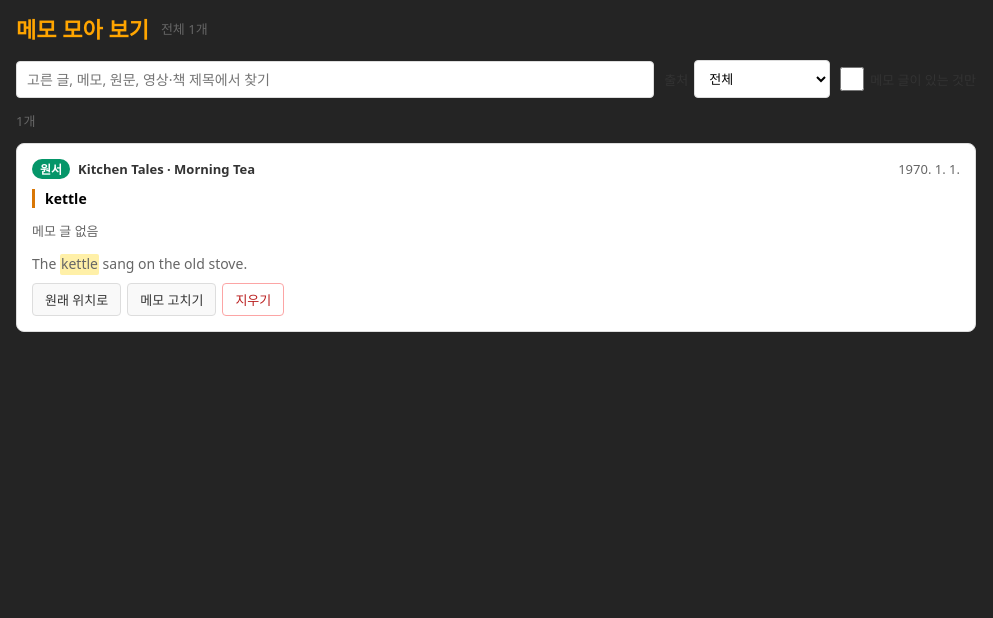
Test: MemoCollection › 고치는 메모 글은 글자마다가 아니라 입력이 멈춘 뒤 한 번 저장한다
The width and height of the screenshot is (993, 618).
Click the button "메모 고치기" at [172, 300], box [127, 283, 216, 316]
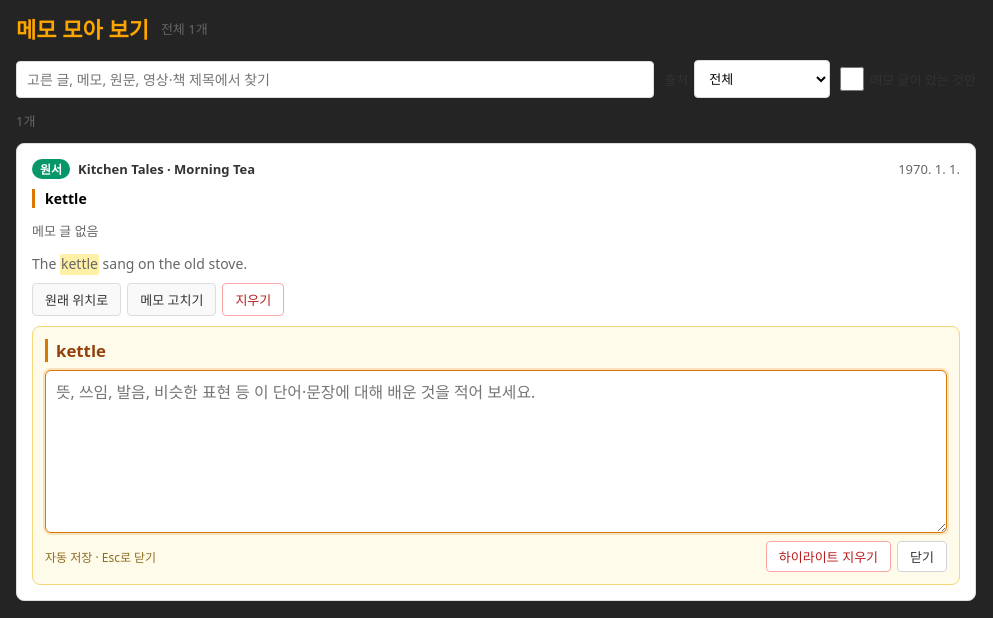
Type "b" into the text box named "메모" at [496, 452], box [45, 370, 947, 533]
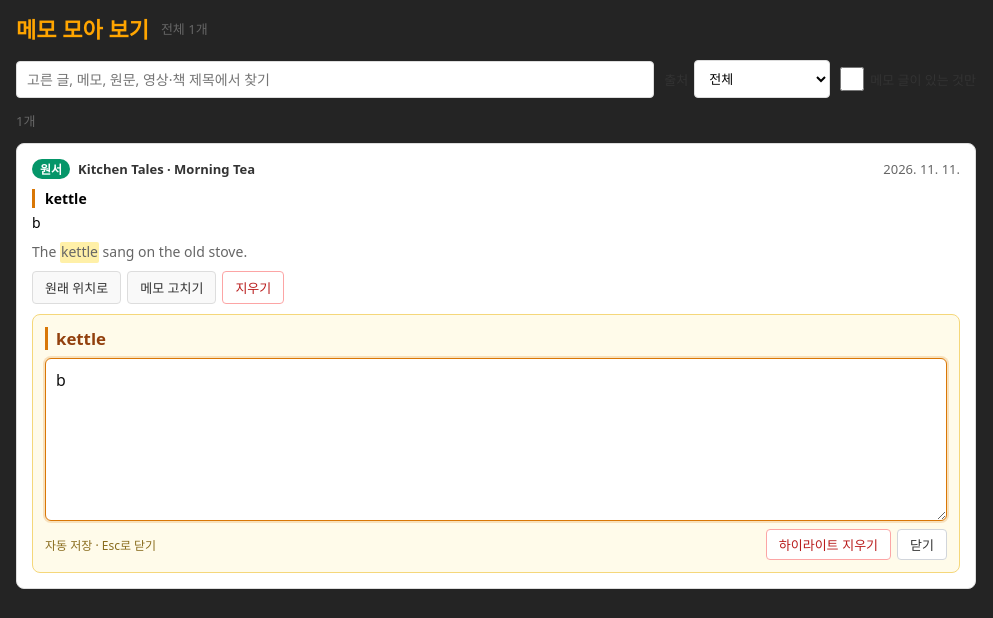
Replace the text in the text box named "메모" with "bo" at [496, 440], box [45, 358, 947, 521]
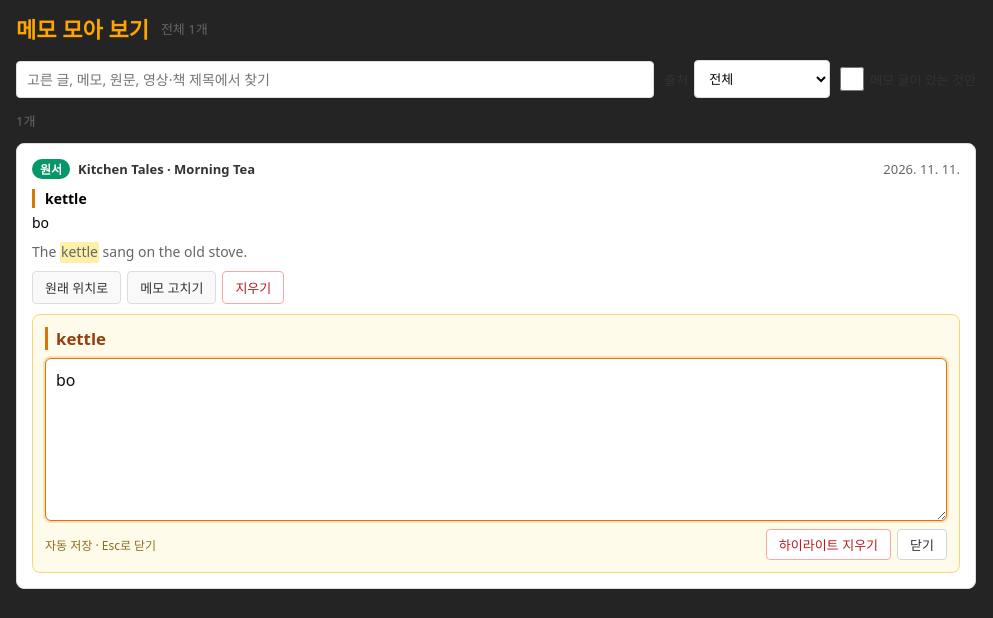
Replace the text in the text box named "메모" with "boi" at [496, 440], box [45, 358, 947, 521]
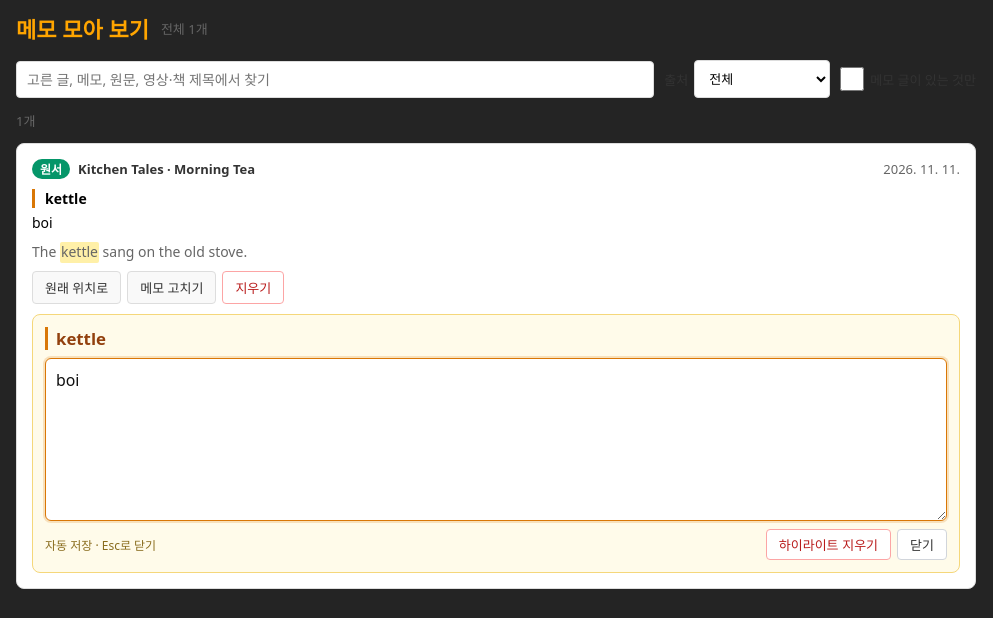
Replace the text in the text box named "메모" with "boil" at [496, 440], box [45, 358, 947, 521]
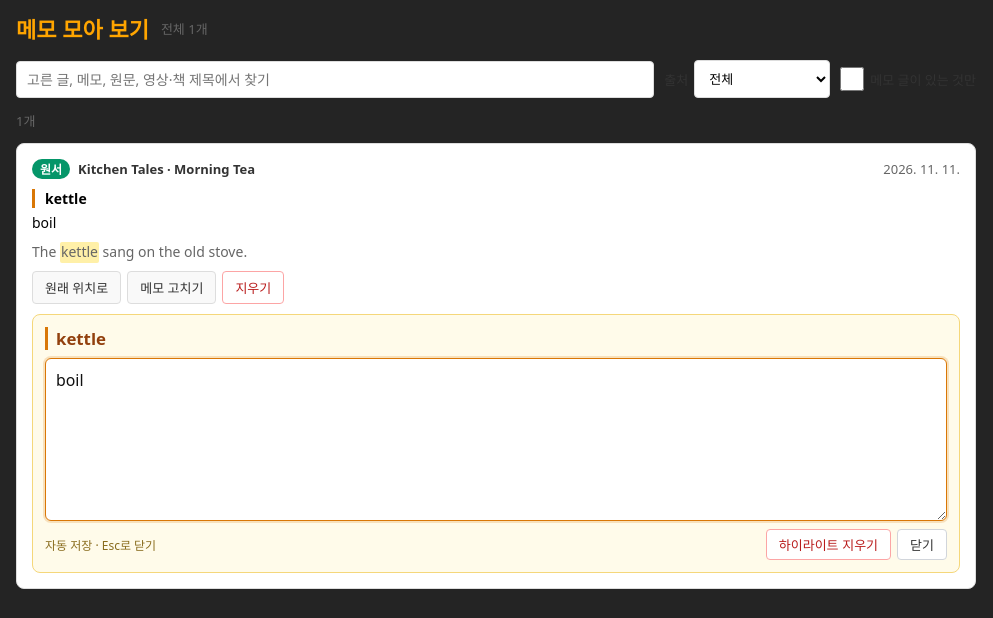
Check: the text "boil" is shown, box [32, 213, 56, 232]
